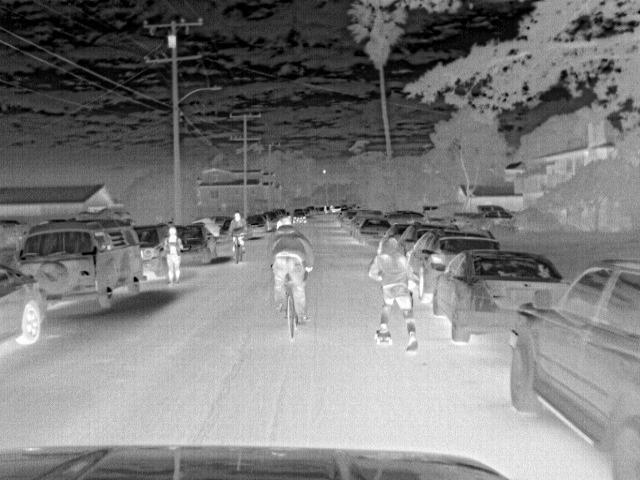car: (507, 258, 638, 478), (431, 248, 565, 343), (16, 222, 147, 312), (409, 228, 499, 304), (0, 263, 49, 348), (132, 220, 168, 283), (178, 222, 214, 266), (452, 205, 505, 227), (347, 210, 384, 238), (385, 210, 445, 227), (357, 218, 396, 244), (463, 212, 514, 230), (245, 213, 271, 240), (292, 207, 309, 224)
person: (369, 236, 420, 352), (269, 224, 312, 321), (163, 226, 184, 282), (226, 212, 246, 244)
